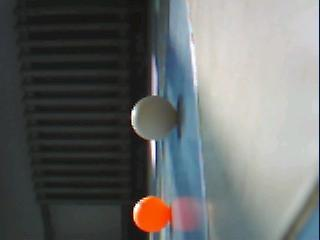oball: (132, 196, 169, 232)
